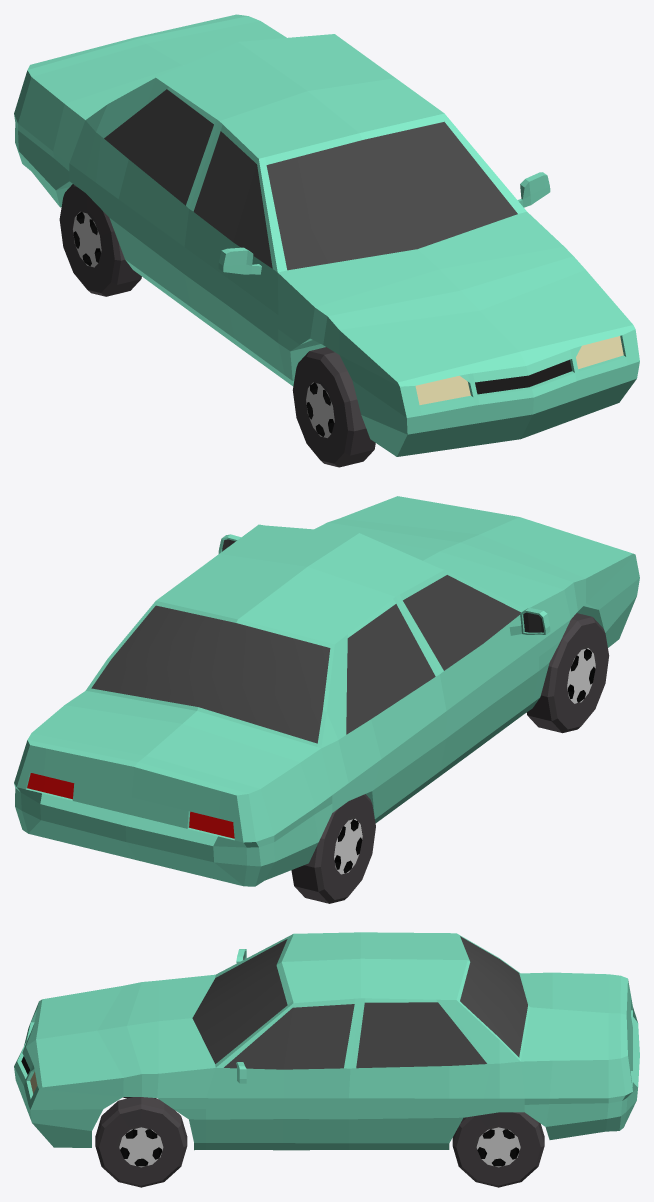
File: 7blue.fbx
3 renders of one model, top to bottom at view 1: azimuth 30°, elevation 25°; view 2: azimuth 150°, elevation 25°; view 3: azimuth 270°, elevation 25°, orthographic. The views are drawn at different scales.
Parts seen in each view (by area): view 1: Cube; view 2: Cube; view 3: Cube.
Boxes of the visible parts, x1,y1,x2,y2 form: Cube: [14, 14, 639, 467]; Cube: [14, 496, 639, 903]; Cube: [14, 932, 639, 1187].
Bounding box in the file's own units: 275 × 190 × 594.
